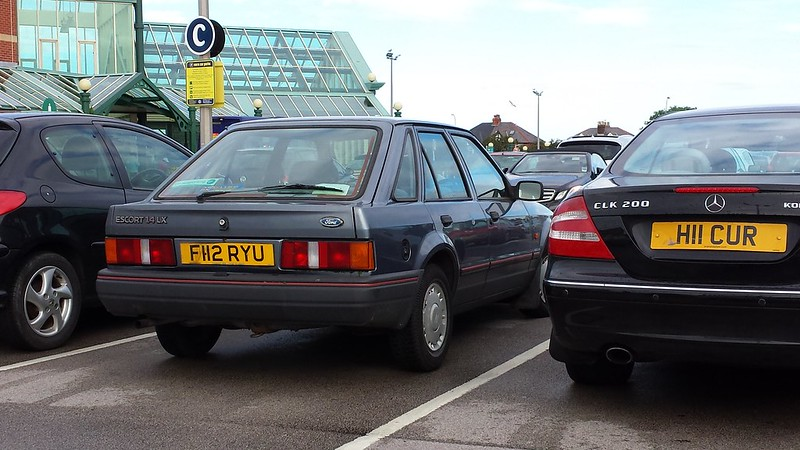number_plate: (646, 215, 796, 264), (170, 238, 283, 269)
